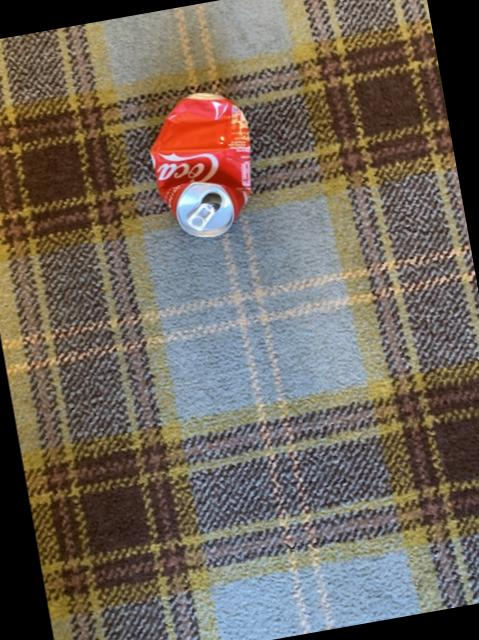metal: (151, 93, 250, 237)
